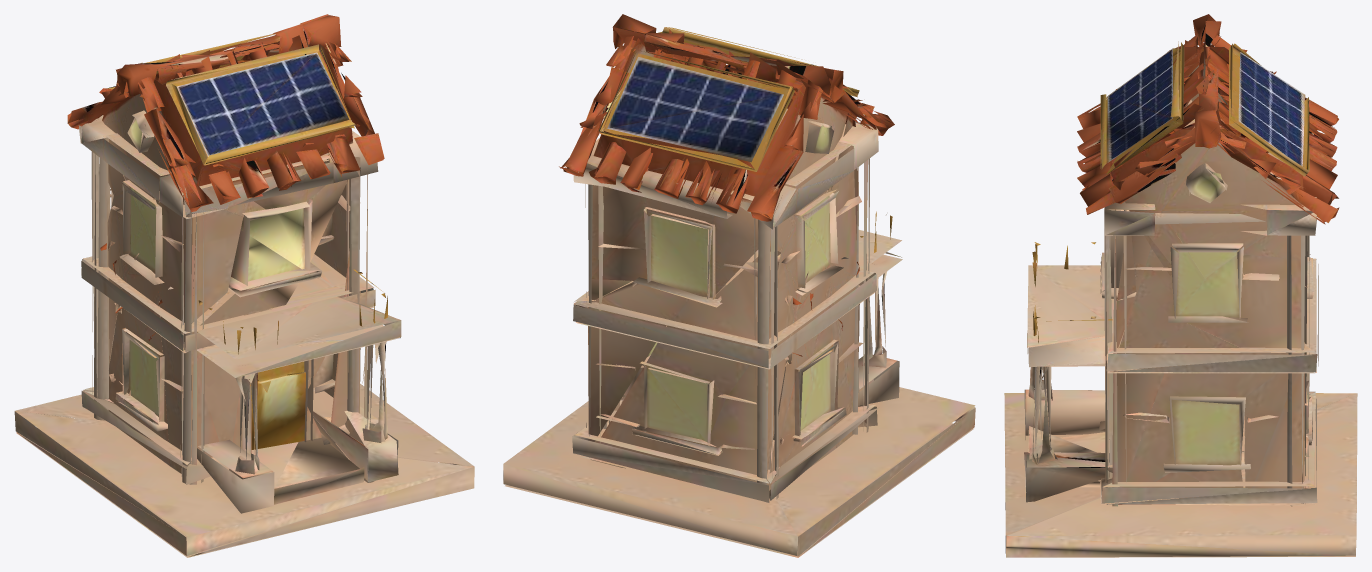
The model's file is house-two-storey.lod1.glb.
3 views of the same model, side by side, from view 1: azimuth 30°, elevation 25°; view 2: azimuth 150°, elevation 25°; view 3: azimuth 270°, elevation 25° (orthographic). The views are drawn at different scales.
Visible parts, largest first — view 1: house-two-storey_lod1; view 2: house-two-storey_lod1; view 3: house-two-storey_lod1.
Part boxes in pixels (bbox=[...]): house-two-storey_lod1: bbox=[14, 14, 474, 557]; house-two-storey_lod1: bbox=[503, 14, 975, 557]; house-two-storey_lod1: bbox=[1004, 14, 1357, 557].
Bounding box in the file's own units: 5.76 × 7.87 × 6.
Materials: 1 (1 with a texture image).
